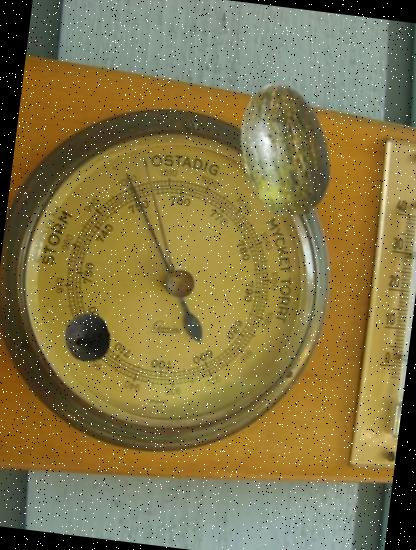Beetroot: (58, 308, 116, 366)
Melon: (209, 76, 359, 226)
